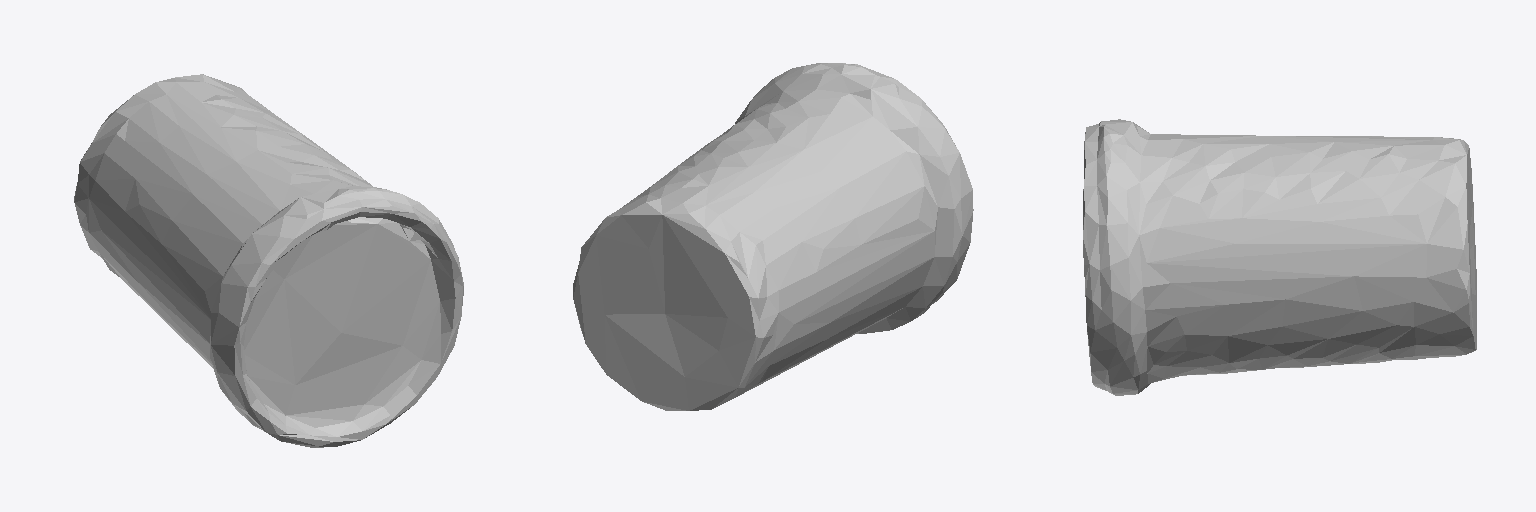
The model's file is cup1.obj.
The picture shows the model from 3 angles: view 1: azimuth 30°, elevation 25°; view 2: azimuth 150°, elevation 25°; view 3: azimuth 270°, elevation 25°; orthographic projection.
Parts seen in each view (by area): view 1: BakingVanilla_800_tex.001; view 2: BakingVanilla_800_tex.001; view 3: BakingVanilla_800_tex.001.
Boxes of the visible parts, x1=… form: BakingVanilla_800_tex.001: x1=74, y1=74, x2=463, y2=447; BakingVanilla_800_tex.001: x1=573, y1=63, x2=973, y2=410; BakingVanilla_800_tex.001: x1=1083, y1=119, x2=1476, y2=395.
Size of the model in its own units: 0.0447 by 0.045 by 0.0636.